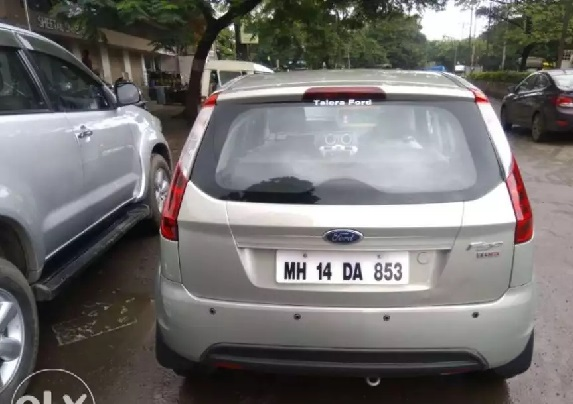licenseplate: (273, 246, 411, 286)
